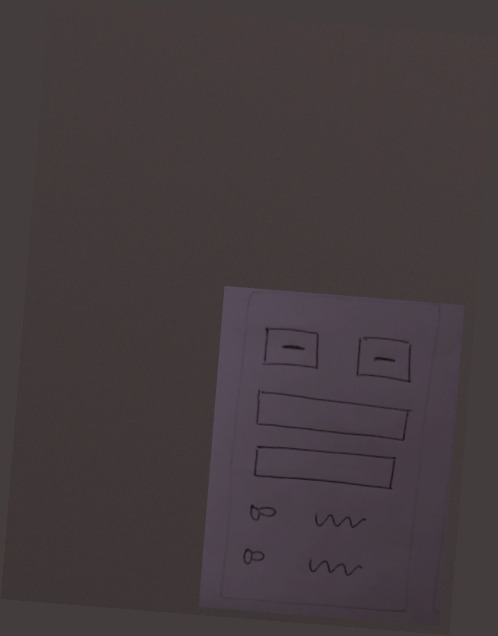button: (350, 330, 418, 388), (258, 321, 326, 378)
switch: (242, 500, 281, 527), (238, 543, 277, 570)
text: (304, 552, 367, 583), (307, 507, 370, 537)
text_input: (251, 385, 415, 448), (250, 440, 399, 497)
